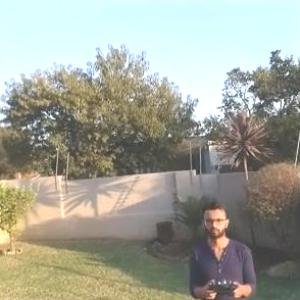follow: (183, 195, 257, 299)
